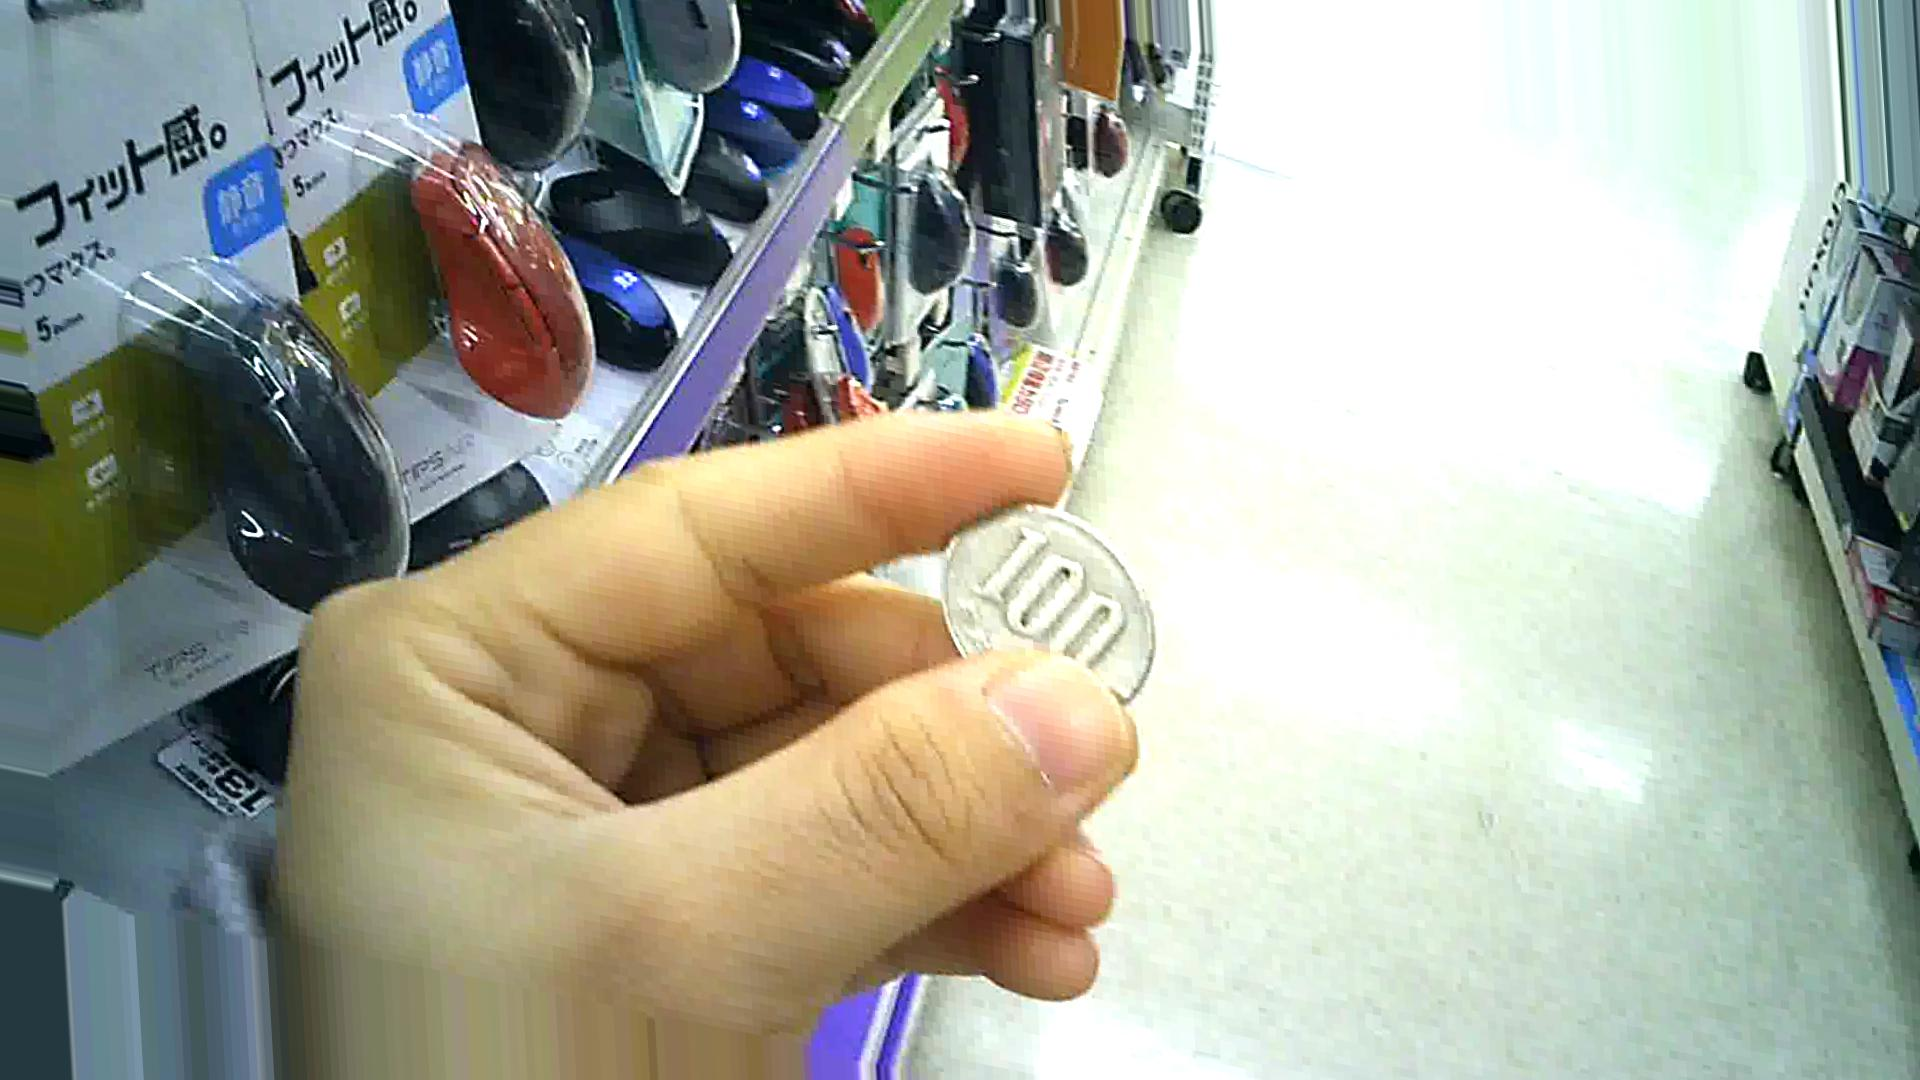100 Yen: (911, 487, 1147, 731)
